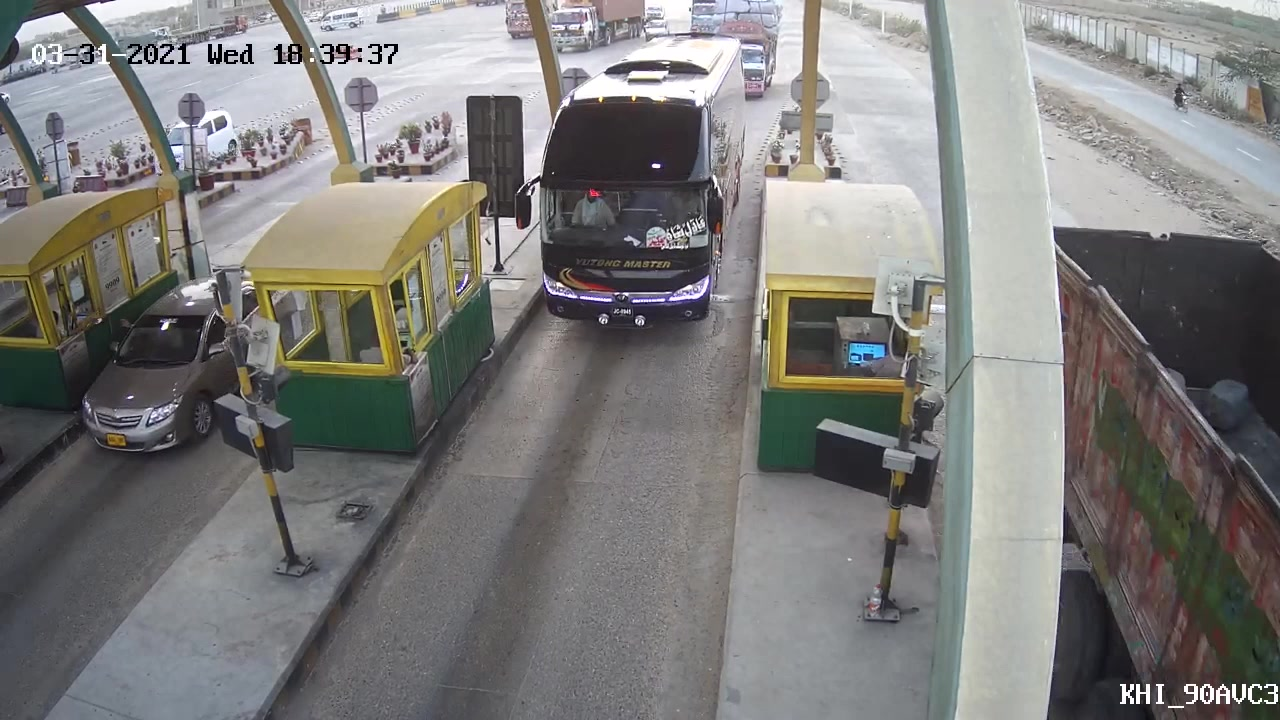F4: (507, 61, 745, 331)
